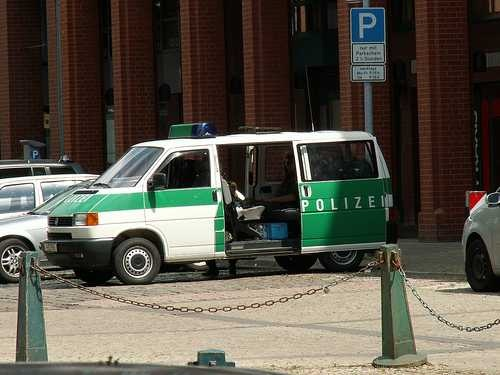Police Van: (32, 112, 406, 276)
